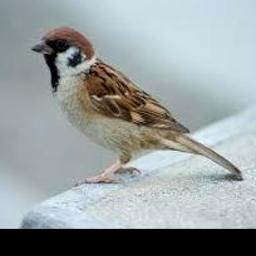Sparrow: (33, 25, 242, 184)
